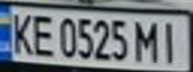0: (54, 13, 78, 60)
2: (90, 16, 112, 62)
5: (109, 16, 133, 63), (75, 15, 93, 61)
E: (27, 11, 57, 57)
I: (154, 18, 187, 64)
K: (6, 9, 36, 56)
M: (133, 17, 163, 63)
